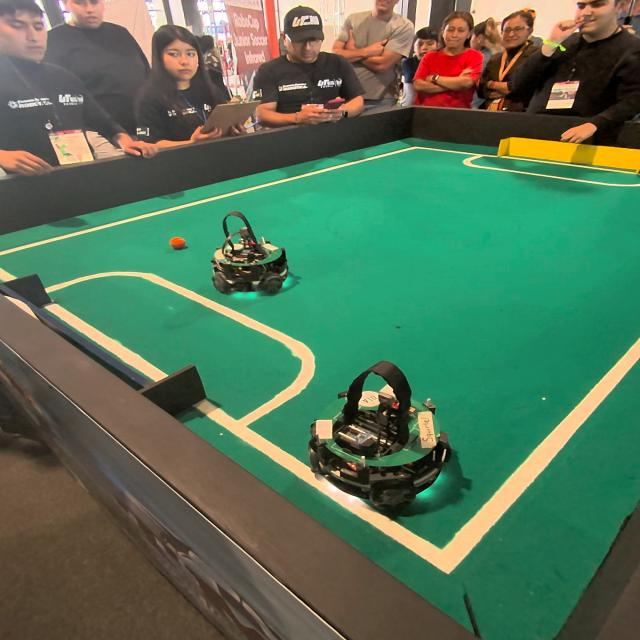Robot: (322, 352, 458, 516), (210, 211, 291, 299)
pelota: (171, 238, 186, 250)
